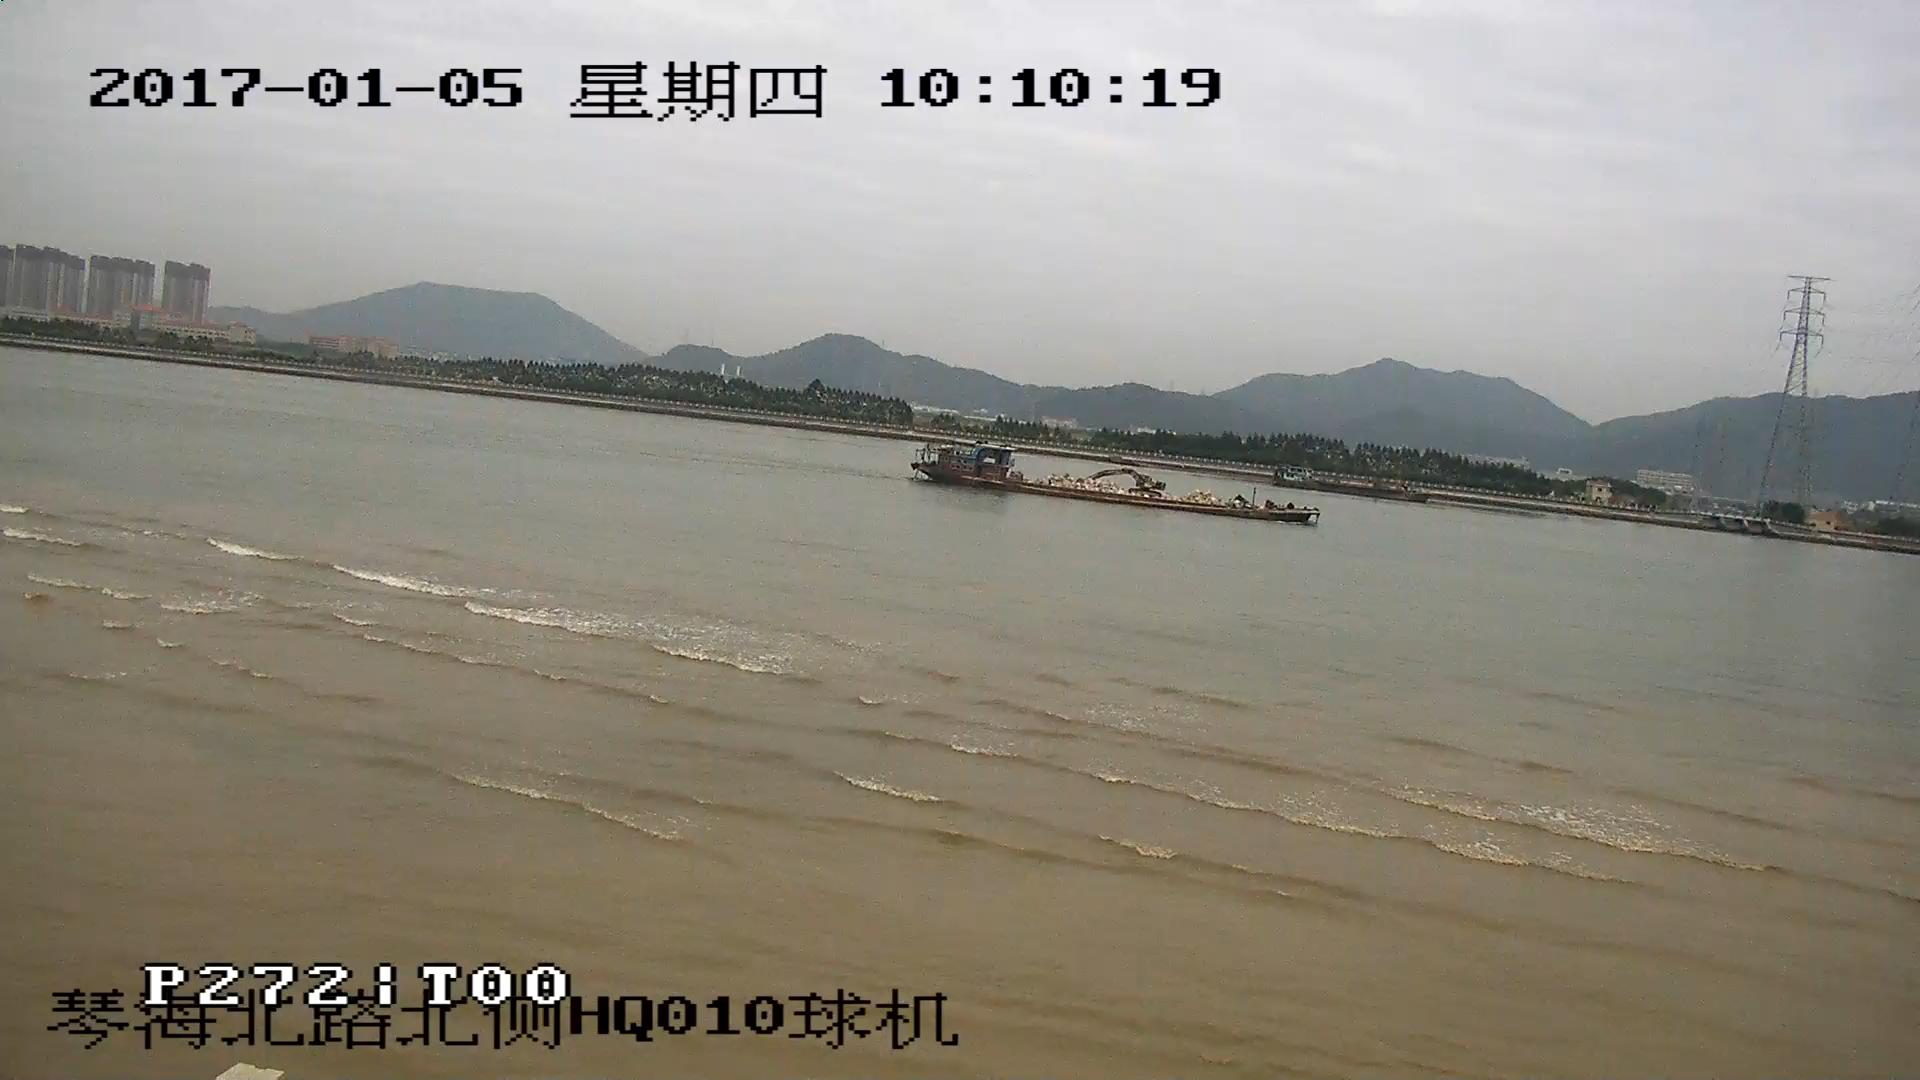bulk cargo carrier: (911, 429, 1306, 526)
